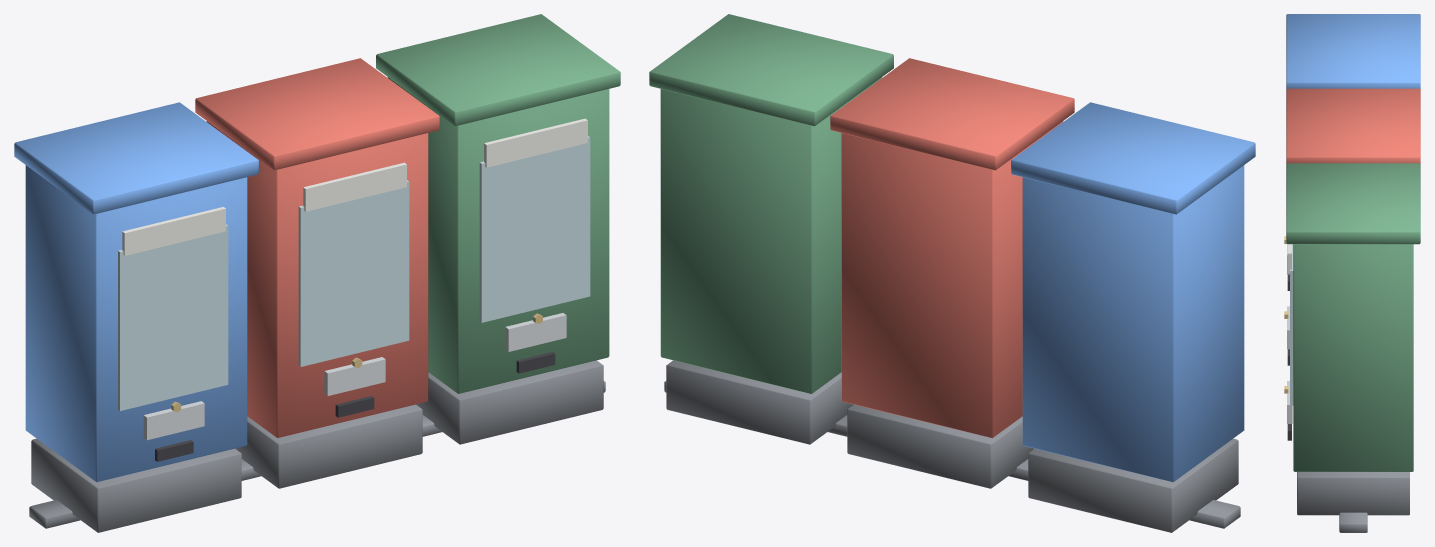
File: NewspaperRack.fbx
The picture shows the model from 3 angles, left to right: view 1: azimuth 30°, elevation 25°; view 2: azimuth 150°, elevation 25°; view 3: azimuth 270°, elevation 25°; orthographic projection. The views are drawn at different scales.
Visible parts, largest first — view 1: LOD0; view 2: LOD0; view 3: LOD0.
Part boxes in pixels (<box>): LOD0: <box>14,14,620,532</box>; LOD0: <box>649,14,1255,532</box>; LOD0: <box>1284,14,1420,532</box>.
Size of what is drawn, in the model's own units: 155 by 92 by 38.6.
